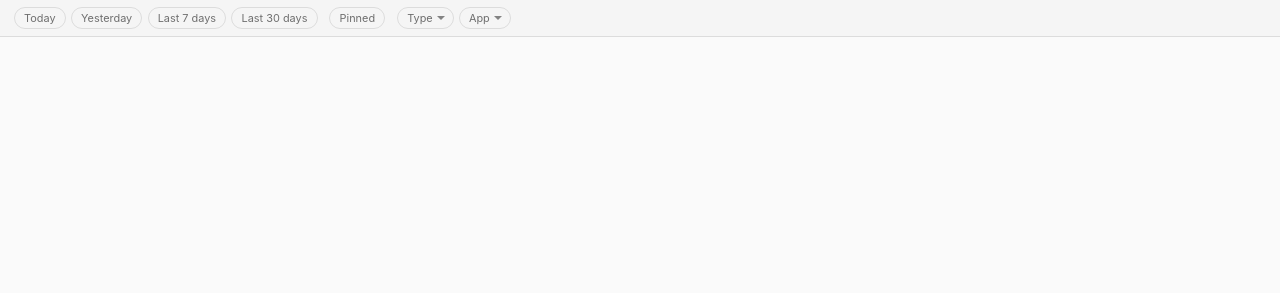
Test: FilterChips › searches a long app list and keeps the reset row
Click the button with aria-label "Source app" at (485, 18), box [459,7,511,29]
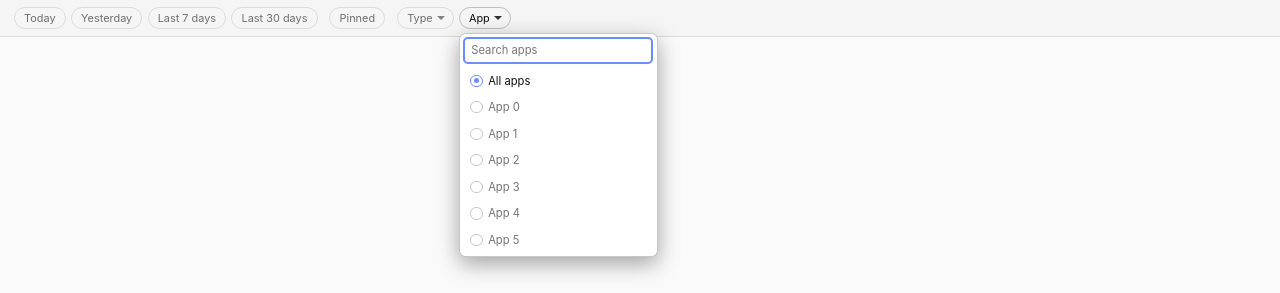
Type keys "term"
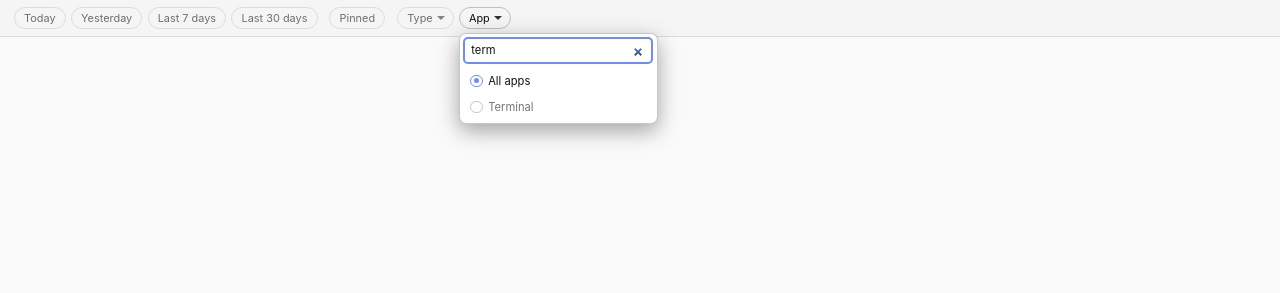
// Enter picks the first match rather than the reset row.
Press Enter
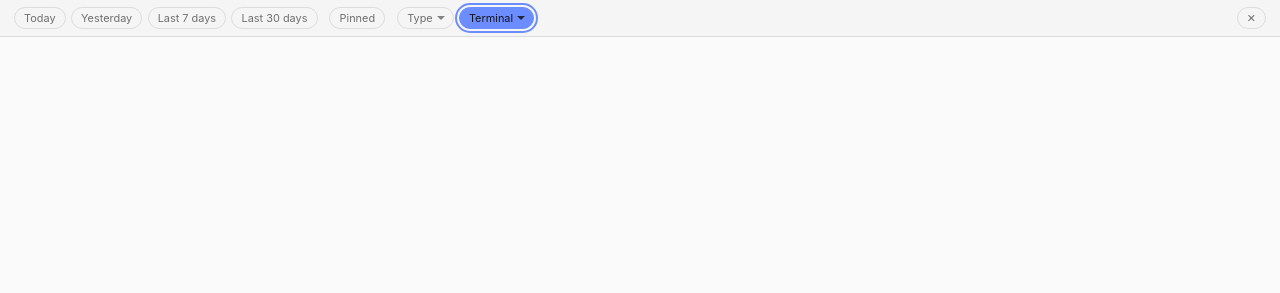
expect the text "Terminal" is shown: met, box [469,11,513,25]
